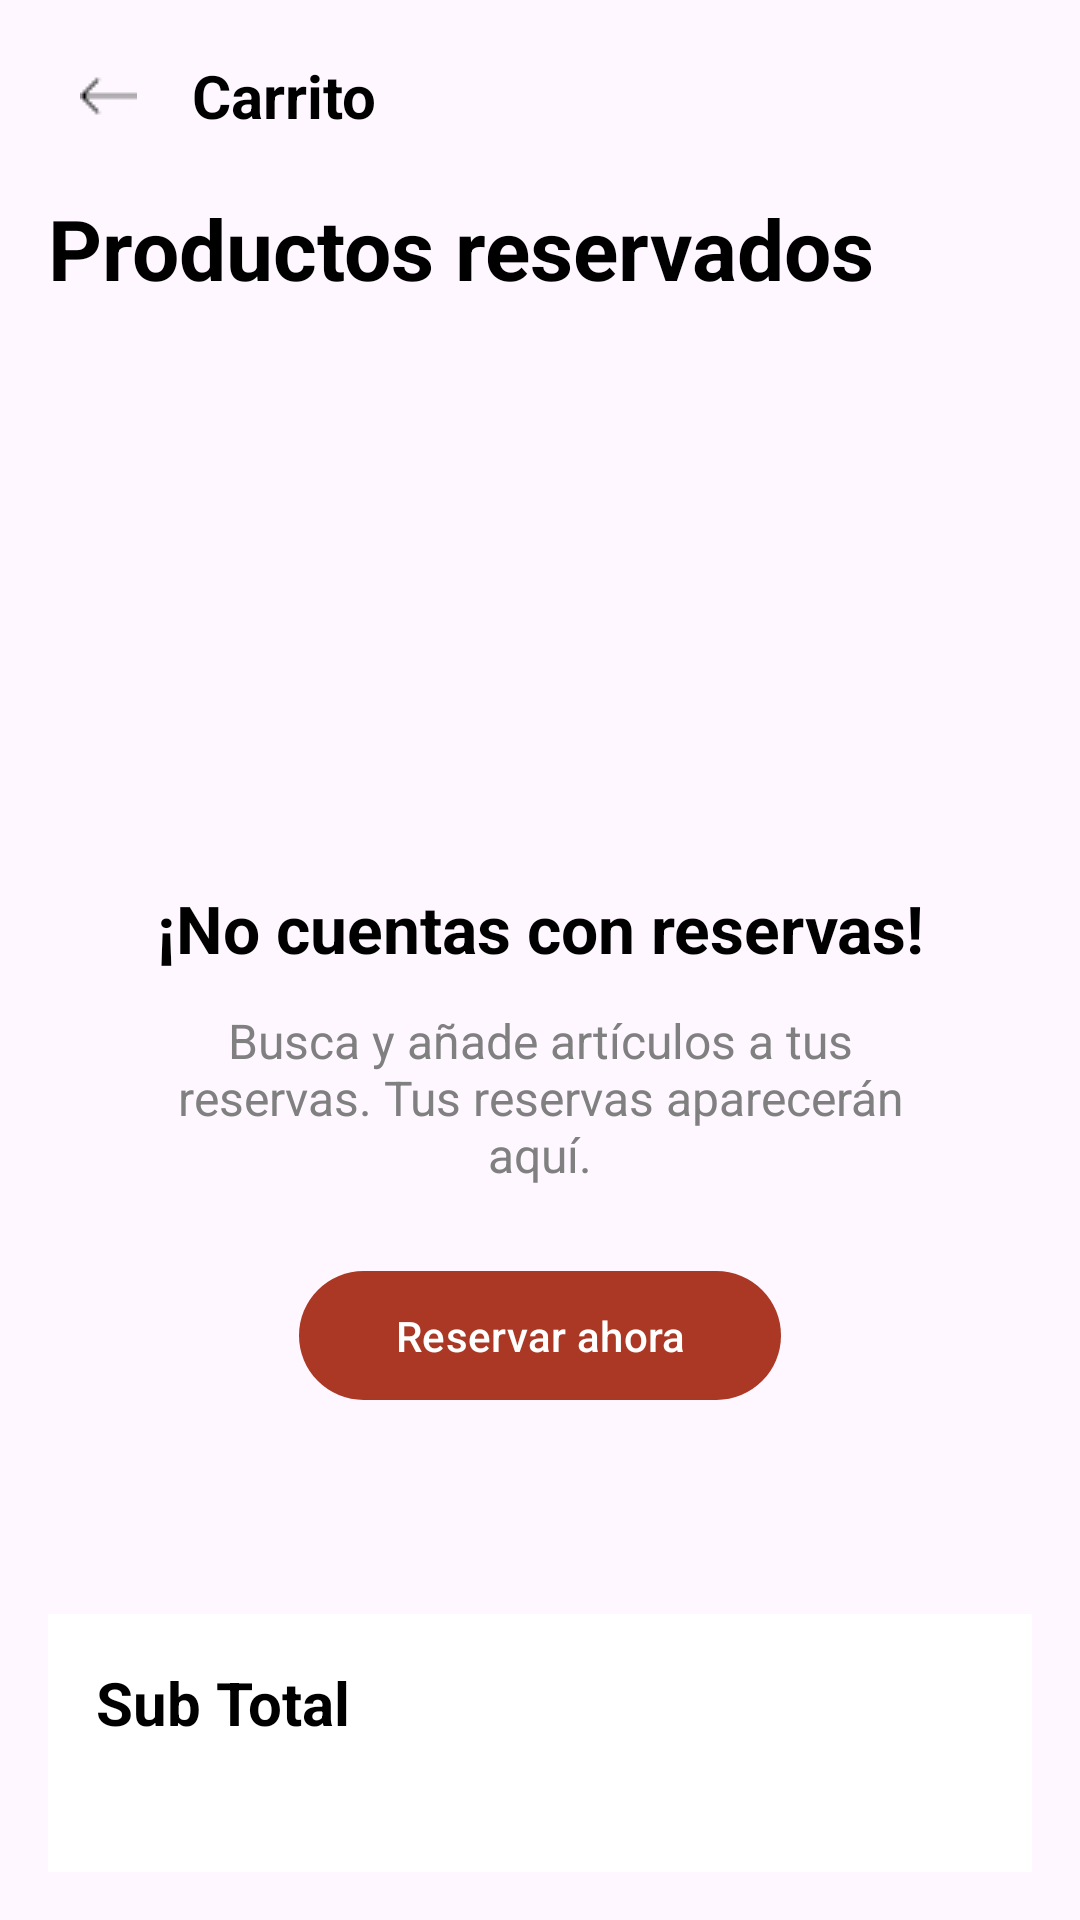

Locate icon controls on the screen. Image size 1080×1920, boxes as (x1, y1, x2, y2).
Volver: (80, 77, 137, 115)
